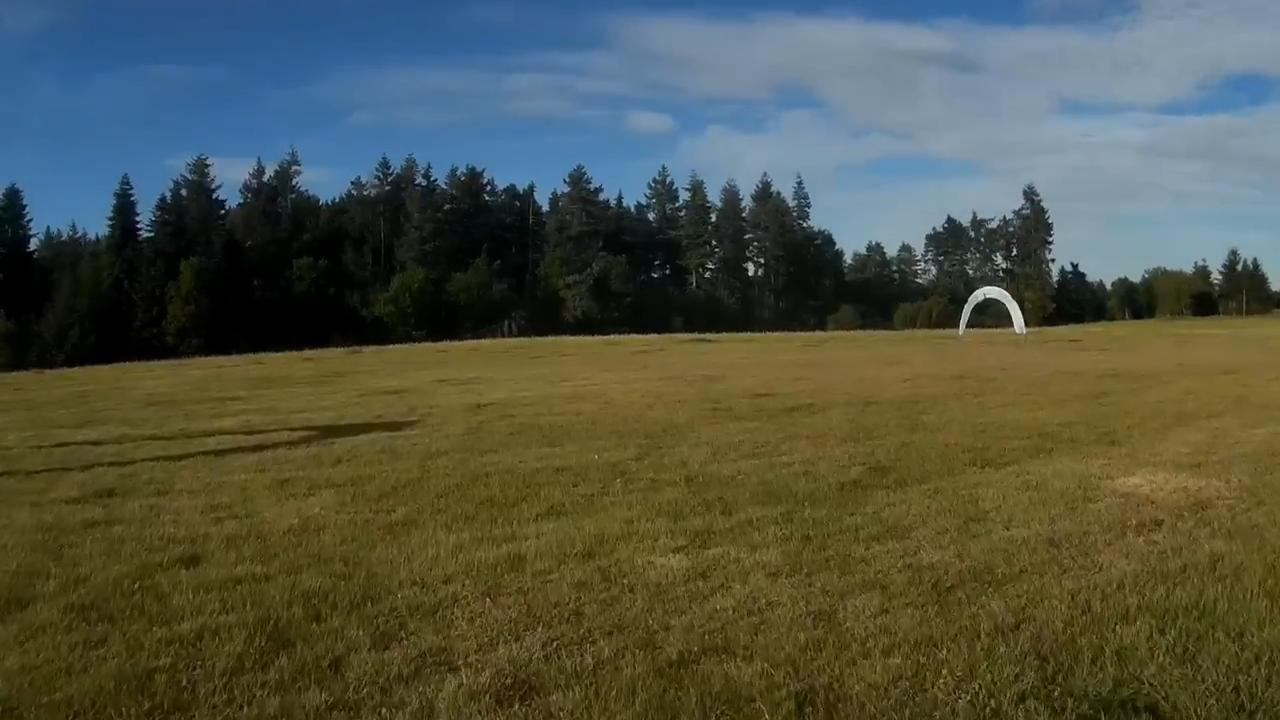gate: (959, 283, 1025, 335)
